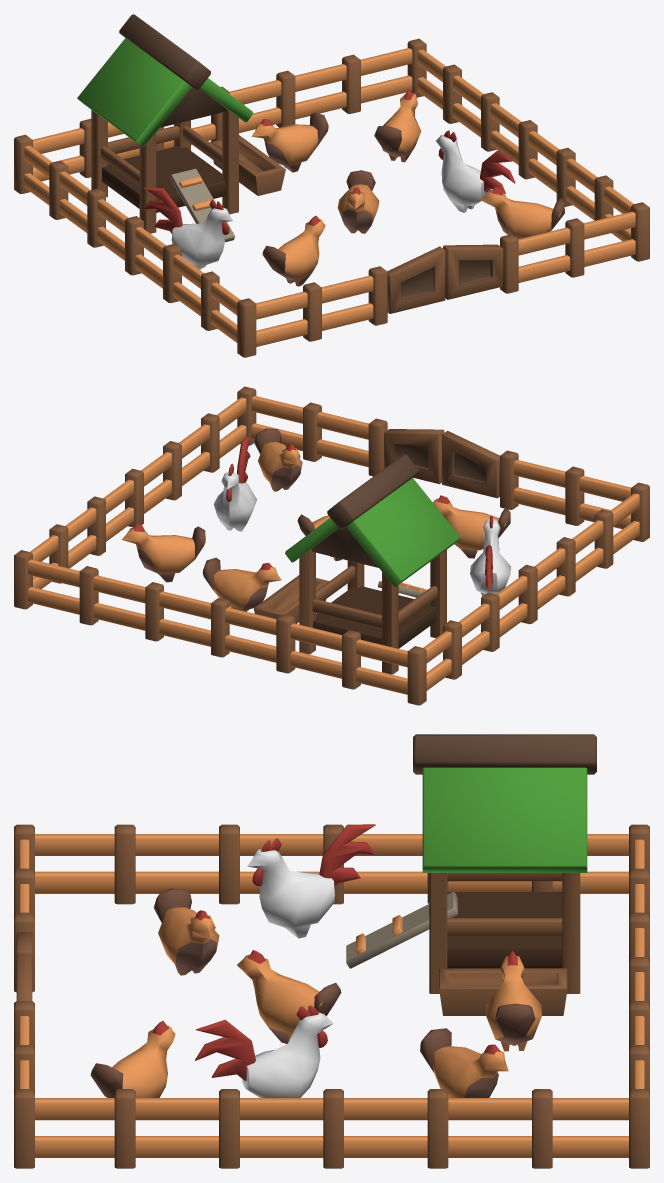
The model's file is Farm-1.fbx.
3 renders of one model, top to bottom at view 1: azimuth 30°, elevation 25°; view 2: azimuth 150°, elevation 25°; view 3: azimuth 270°, elevation 25°, orthographic. The views are drawn at different scales.
Visible parts, largest first — view 1: Cube.1209, Cube.1093, Cube.1094, Cube.1205, Cube.1211, Cube.1091, Cube.1092, Cube.1204, Cube.1207, Cube.1096, Cube.1208, Cube.1095 (+19 smaller); view 2: Cube.1093, Cube.1209, Cube.1091, Cube.1094, Cube.1205, Cube.1211, Cube.1092, Cube.1204, Cube.1207, Cube.1096, Cube.1208, Cube.1221 (+15 smaller); view 3: Cube.1205, Cube.1209, Cube.1094, Cube.1204, Cube.1210, Cube.1208, Cube.1091, Plane.087, Cube.1092, Cube.1219, Cube.1211, Plane.075 (+16 smaller).
Boxes of the visible parts, bbox=[...] form: Cube.1209: bbox=[77, 38, 253, 147]; Cube.1093: bbox=[33, 48, 412, 181]; Cube.1094: bbox=[24, 145, 240, 342]; Cube.1205: bbox=[417, 49, 633, 241]; Cube.1211: bbox=[91, 109, 238, 233]; Cube.1091: bbox=[14, 38, 426, 193]; Cube.1092: bbox=[49, 160, 219, 330]; Cube.1204: bbox=[443, 64, 613, 220]; Cube.1207: bbox=[518, 211, 635, 282]; Cube.1096: bbox=[256, 275, 373, 346]; Cube.1208: bbox=[102, 146, 225, 212]; Cube.1095: bbox=[237, 266, 387, 357]; Cube.1093: bbox=[28, 559, 407, 694]; Cube.1209: bbox=[285, 478, 460, 587]; Cube.1091: bbox=[14, 550, 426, 705]; Cube.1094: bbox=[423, 493, 639, 690]; Cube.1205: bbox=[30, 397, 246, 588]; Cube.1211: bbox=[299, 549, 446, 674]; Cube.1092: bbox=[443, 509, 613, 679]; Cube.1204: bbox=[49, 413, 219, 583]; Cube.1207: bbox=[251, 396, 368, 467]; Cube.1096: bbox=[514, 460, 630, 529]; Cube.1208: bbox=[313, 586, 436, 648]; Cube.1221: bbox=[442, 430, 499, 498]; Cube.1205: bbox=[35, 1098, 628, 1157]; Cube.1209: bbox=[422, 767, 587, 872]; Cube.1094: bbox=[35, 834, 628, 893]; Cube.1204: bbox=[114, 1089, 552, 1168]; Cube.1210: bbox=[413, 734, 596, 774]; Cube.1208: bbox=[447, 892, 562, 968]; Cube.1091: bbox=[629, 824, 649, 1168]; Plane.087: bbox=[247, 849, 334, 938]; Cube.1092: bbox=[114, 824, 552, 904]; Cube.1219: bbox=[439, 968, 567, 1015]; Cube.1211: bbox=[429, 873, 580, 993]; Plane.075: bbox=[242, 1012, 333, 1097].
Size of the model in its own units: 180 by 69.8 by 177.
